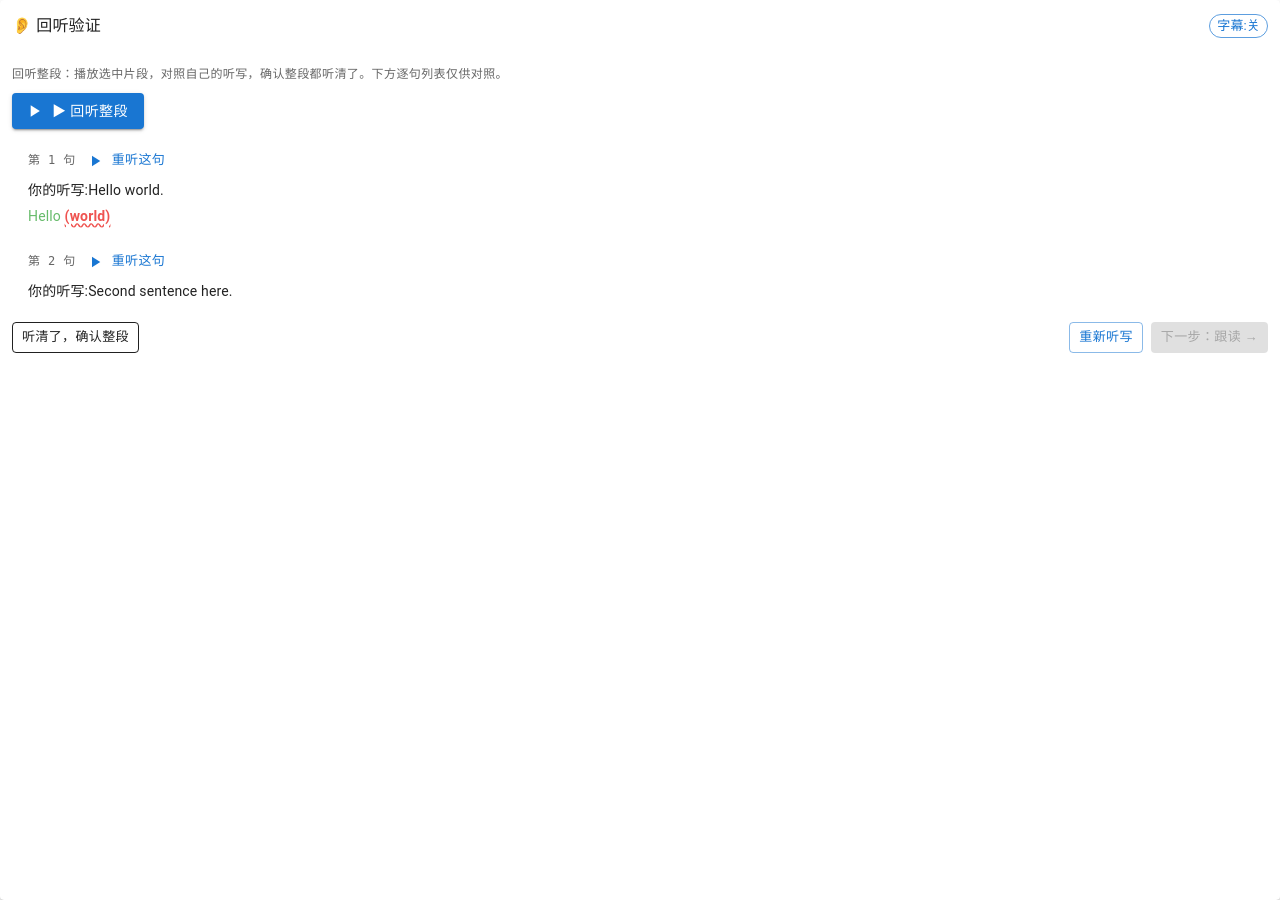
Test: VerifyPanel (回听验证·整段确认) › clicking the segment confirmation again cancels it (next disabled again)
Click the button with test id "verify-confirm-segment" at point(76, 338), box [12, 322, 139, 353]
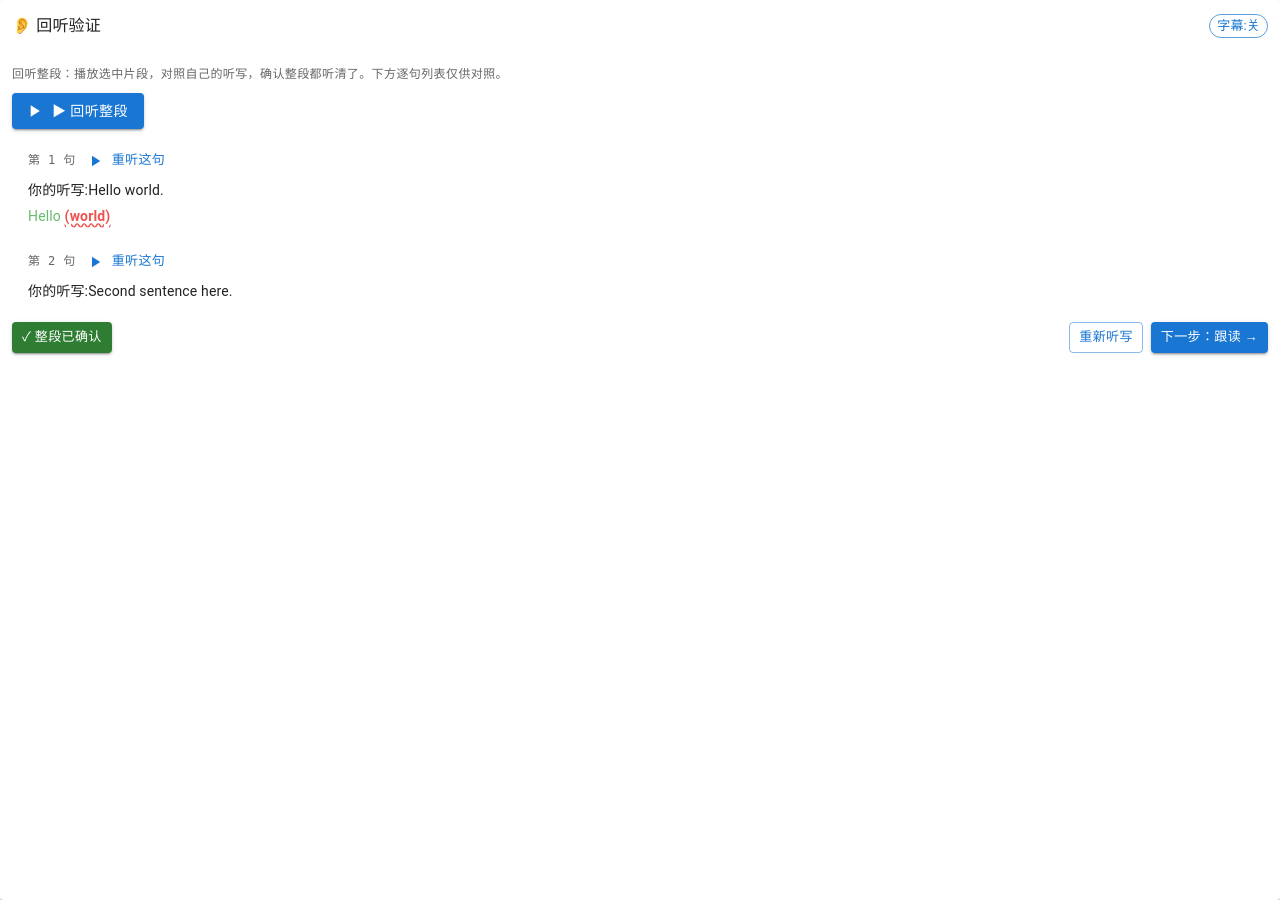
expect the button "下一步：跟读 →" is enabled: met, box [1151, 322, 1268, 353]
Click the button with test id "verify-confirm-segment" at point(62, 338), box [12, 322, 112, 353]
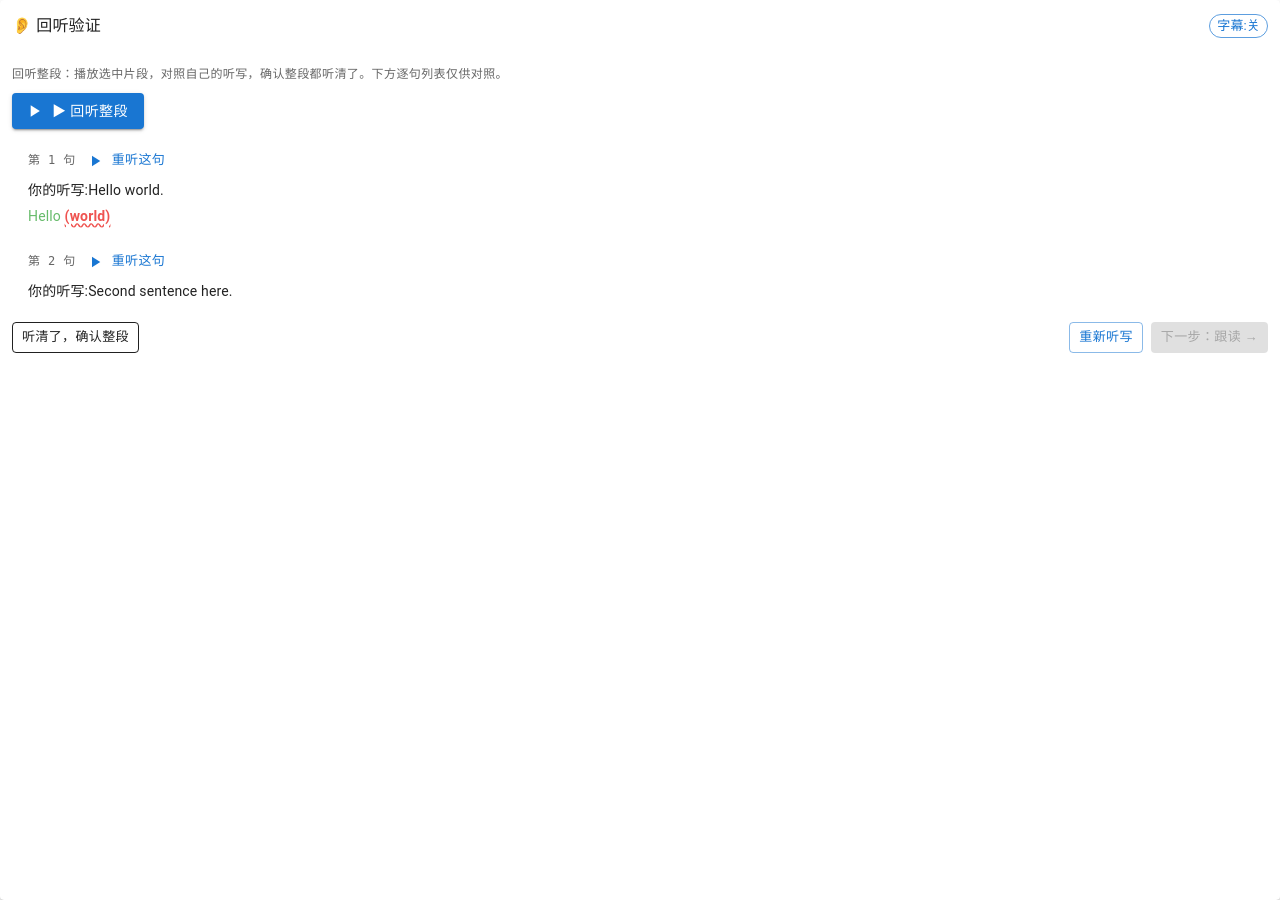
expect the button "下一步：跟读 →" is disabled: met, box [1151, 322, 1268, 353]
